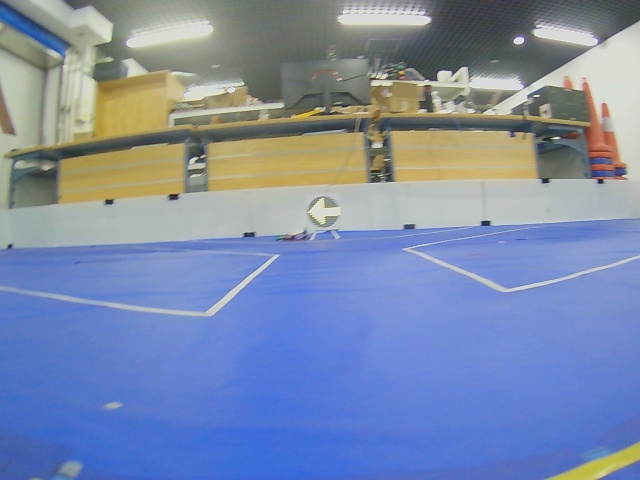left_yellow: (307, 197, 341, 227)
